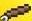platform: (1, 0, 32, 21)
